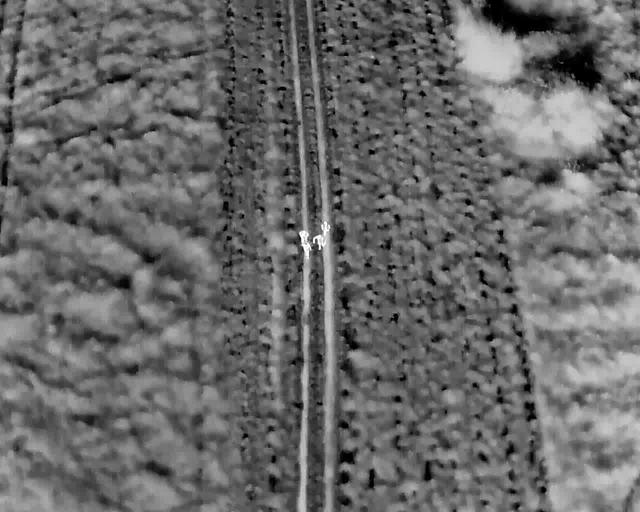person: (312, 232, 327, 251), (300, 240, 312, 260), (298, 228, 310, 247), (320, 218, 331, 237)
